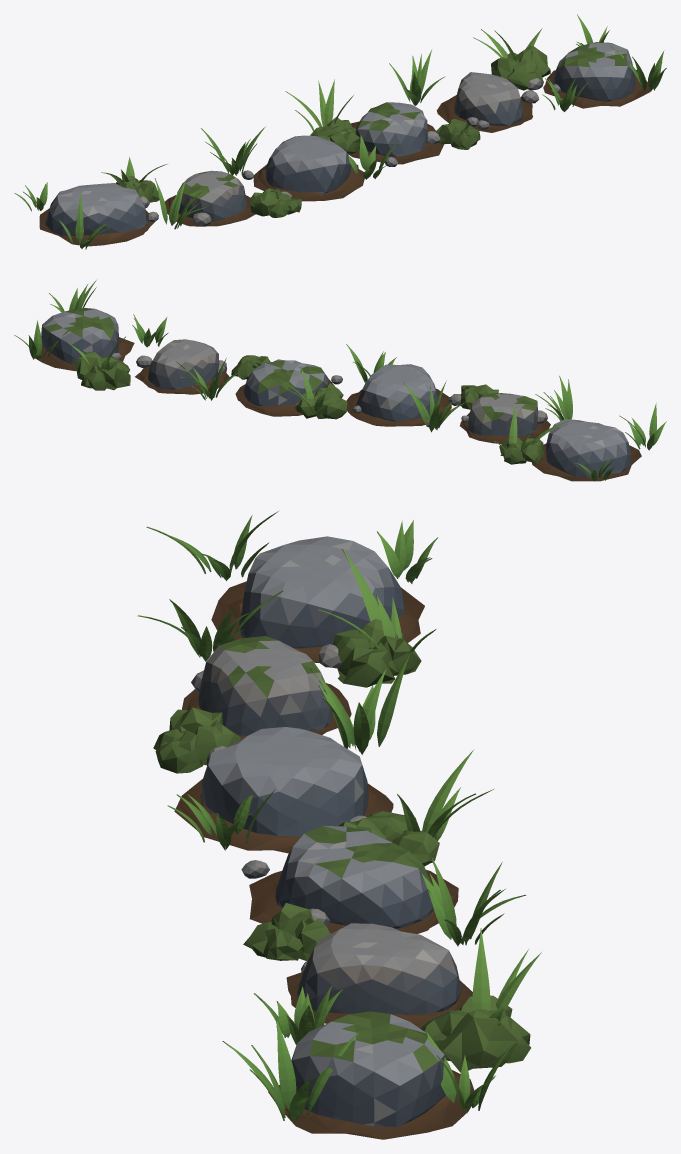
The model's file is creek-stepping-stones.glb.
The picture shows the model from 3 angles, top to bottom: view 1: azimuth 30°, elevation 25°; view 2: azimuth 150°, elevation 25°; view 3: azimuth 270°, elevation 25°; orthographic projection. The views are drawn at different scales.
Visible parts, largest first — view 1: creek_stepping_stones; view 2: creek_stepping_stones; view 3: creek_stepping_stones.
Boxes of the visible parts, x1,y1,x2,y2 form: creek_stepping_stones: (14,14,666,249); creek_stepping_stones: (14,280,666,481); creek_stepping_stones: (137,511,541,1139).
Size of the model in its own units: 3.71 by 0.2965 by 1.1.
